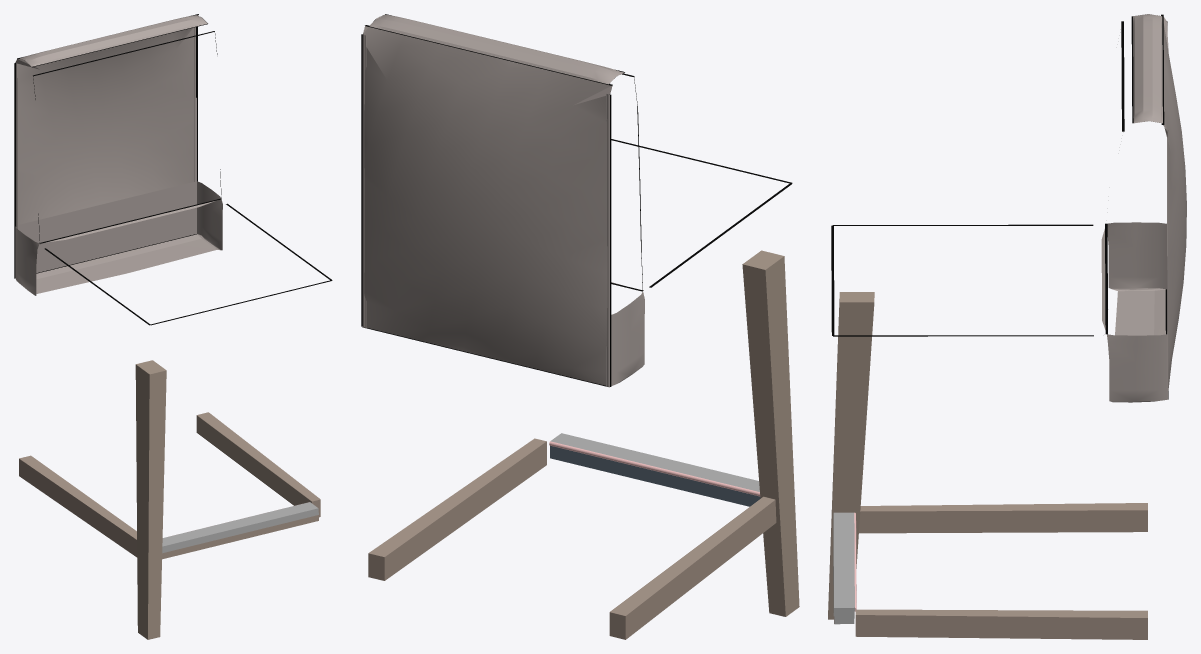
File: leg1.obj
3 views of the same model, side by side, from view 1: azimuth 30°, elevation 25°; view 2: azimuth 150°, elevation 25°; view 3: azimuth 270°, elevation 25° (orthographic). The views are drawn at different scales.
Parts seen in each view (by area): view 1: leg1; view 2: leg1; view 3: leg1.
Boxes of the visible parts, x1,y1,x2,y2 form: leg1: [14, 14, 332, 639]; leg1: [361, 14, 799, 639]; leg1: [828, 14, 1186, 639].
Bounding box in the file's own units: 15.79 × 38.7 × 20.8.
